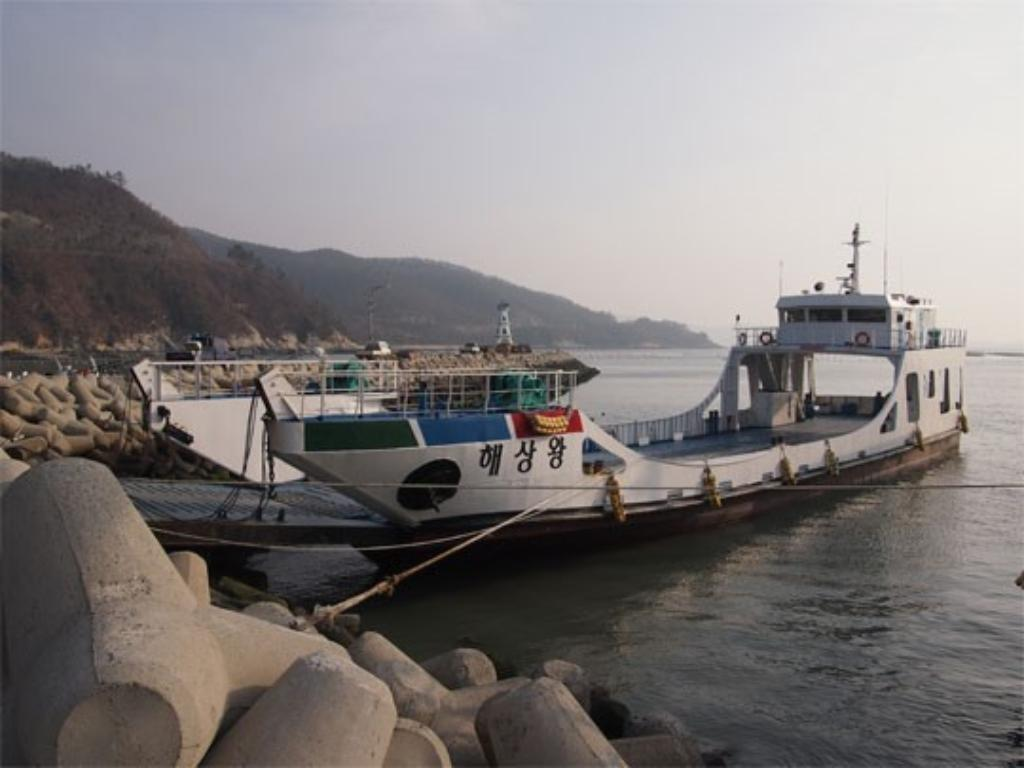PassengerShip: (34, 203, 974, 525)
